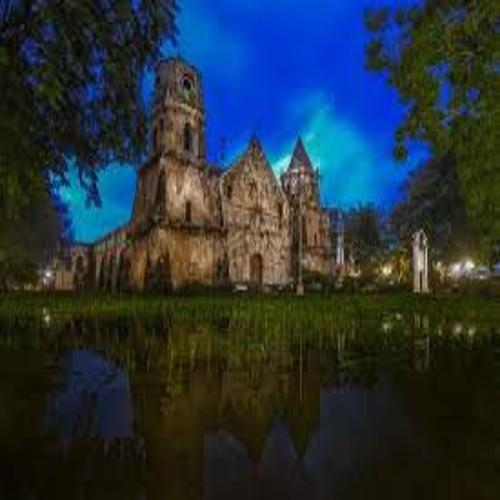Miagao Church: (128, 48, 337, 299)
